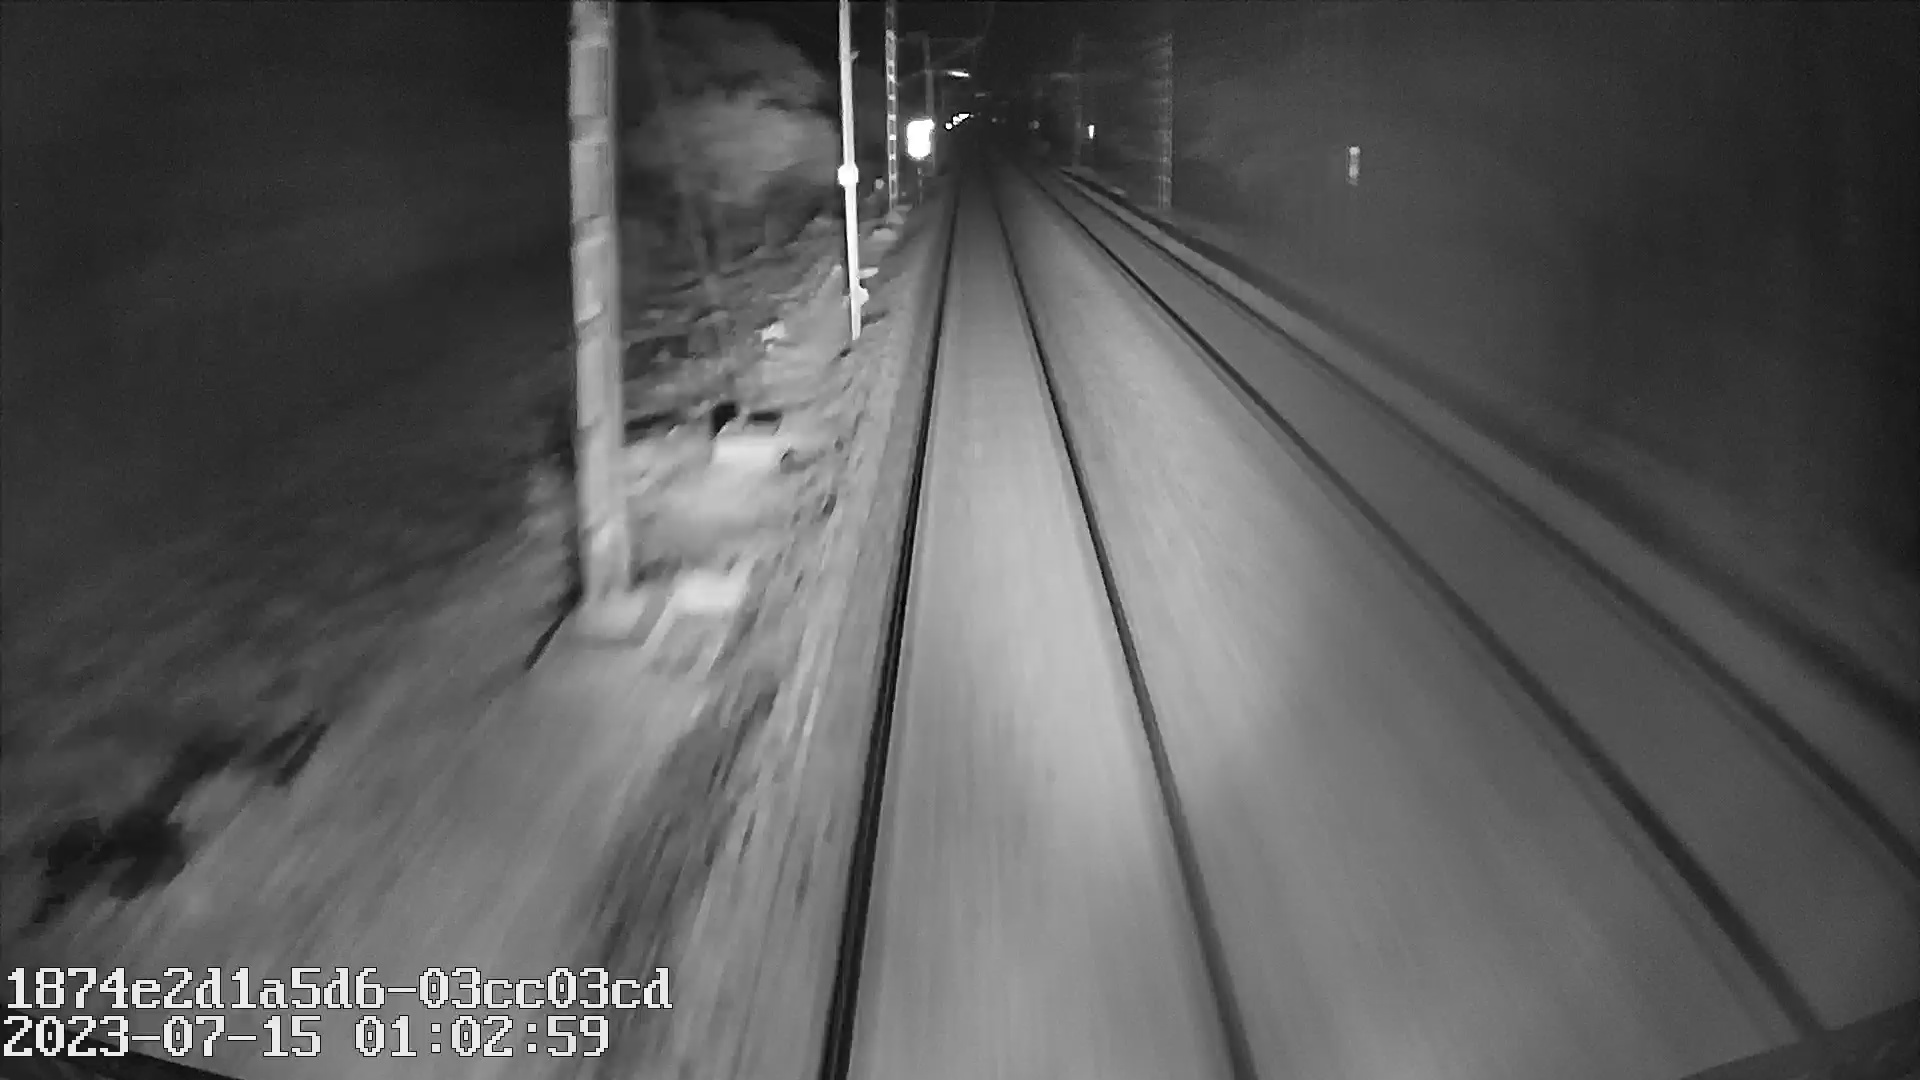track1: (834, 193, 1241, 1060)
track2: (1049, 191, 1888, 976)
